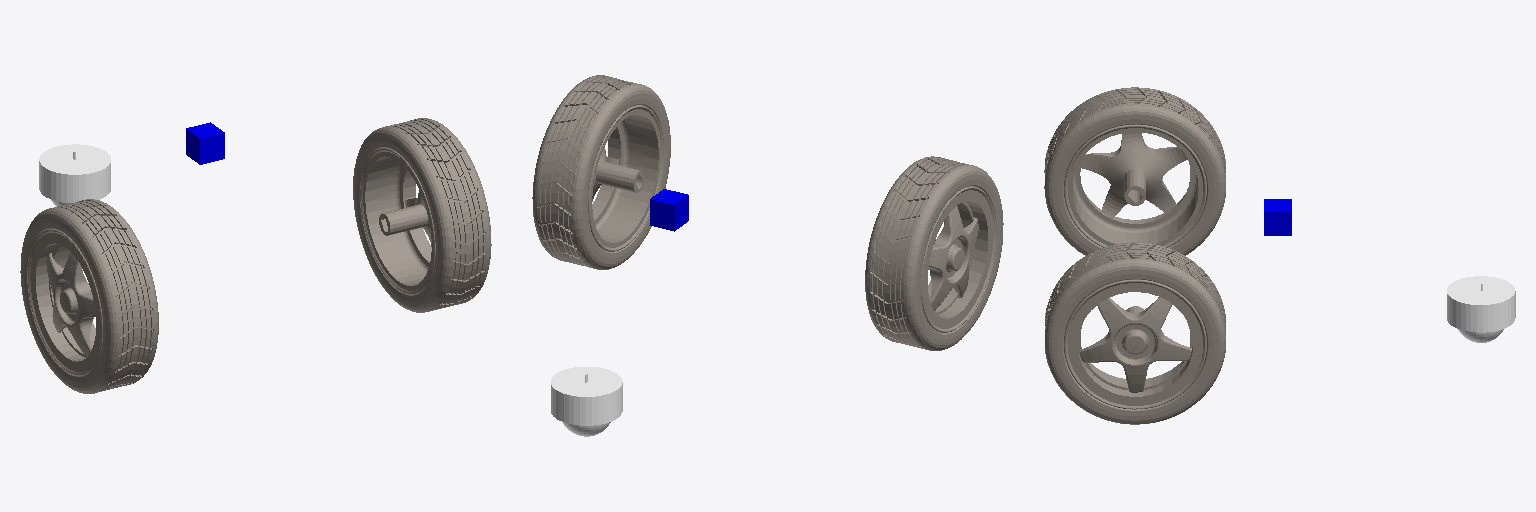
robot.urdf — robot:
<?xml version="1.0" encoding="utf-8"?>
<!-- This URDF was automatically created by SolidWorks to URDF Exporter -->
<robot name="robot">

  <!-- ==================== BASE LINK ==================== -->
  <link name="base">
    <inertial>
      <origin xyz="-0.00965481457320272 0.0111120747049655 0.005" rpy="0 0 0" />
      <mass value="0.197321172139232" />
      <inertia
        ixx="0.000254464488119407"
        ixy="5.7773136475039E-08"
        ixz="-2.4030438420844E-07"
        iyy="0.000348452218851022"
        iyz="-4.09032412681973E-05"
        izz="0.000146305796028143" />
    </inertial>
    <visual>
      <origin xyz="0 0 0" rpy="0 0 0" />
      <geometry>
        <mesh filename="package://robot/meshes/base.STL" />
      </geometry>
      <material name="">
        <color rgba="0.792156862745098 0.819607843137255 0.933333333333333 1" />
      </material>
    </visual>
    <collision>
      <origin xyz="0 0 0" rpy="0 0 0" />
      <geometry>
        <mesh filename="package://robot/meshes/base.STL" />
      </geometry>
    </collision>
  </link>

  <!-- ==================== LEFT WHEEL ==================== -->
  <link name="Left Wheel">
    <inertial>
      <origin xyz="0.015634 3.4368E-10 -7.9793E-11" rpy="0 0 0" />
      <mass value="0.30171" />
      <inertia
        ixx="0.00021617"
        ixy="-1.8513E-13"
        ixz="8.6051E-15"
        iyy="0.00011754"
        iyz="-8.418E-14"
        izz="0.00011754" />
    </inertial>
    <visual>
      <origin xyz="0 0 0" rpy="0 0 0" />
      <geometry>
        <mesh filename="package://robot/meshes/left_wheel.STL" />
      </geometry>
      <material name="">
        <color rgba="0.65098 0.61961 0.58824 1" />
      </material>
    </visual>
    <collision>
      <origin xyz="0 0 0" rpy="0 0 0" />
      <geometry>
        <mesh filename="package://robot/meshes/left_wheel.STL" />
      </geometry>
    </collision>
  </link>

  <joint name="left_wheel" type="continuous">
    <origin xyz="-0.061096 -0.051666 0.00018021" rpy="-2.2886 0 3.1416" />
    <parent link="base" />
    <child link="Left Wheel" />
    <axis xyz="1 0 0" />
  </joint>

  <!-- ==================== RIGHT WHEEL ==================== -->
  <link name="Right Wheel">
    <inertial>
      <origin xyz="0.015634 1.0186E-10 -2.1241E-11" rpy="0 0 0" />
      <mass value="0.30171" />
      <inertia
        ixx="0.00021617"
        ixy="6.8231E-14"
        ixz="-9.3068E-15"
        iyy="0.00011754"
        iyz="-3.8625E-13"
        izz="0.00011754" />
    </inertial>
    <visual>
      <origin xyz="0 0 0" rpy="0 0 0" />
      <geometry>
        <mesh filename="package://robot/meshes/right_wheel.STL" />
      </geometry>
      <material name="">
        <color rgba="0.65098 0.61961 0.58824 1" />
      </material>
    </visual>
    <collision>
      <origin xyz="0 0 0" rpy="0 0 0" />
      <geometry>
        <mesh filename="package://robot/meshes/right_wheel.STL" />
      </geometry>
    </collision>
  </link>

  <joint name="right_wheel" type="continuous">
    <origin xyz="0.041879 -0.051666 0.00018021" rpy="0.95996 0 0" />
    <parent link="base" />
    <child link="Right Wheel" />
    <axis xyz="-1 0 0" />
  </joint>

  <!-- ==================== FREE WHEEL ==================== -->
  <link name="Free Wheel">
    <inertial>
      <origin xyz="0 0 0" rpy="0 0 0" />
      <mass value="0.1" />
      <inertia
        ixx="0.0001"
        ixy="0"
        ixz="0"
        iyy="0.0001"
        iyz="0"
        izz="0.0001" />
    </inertial>
    <visual>
      <origin xyz="0 0 0" rpy="0 0 0" />
      <geometry>
        <mesh filename="package://robot/meshes/free_wheel.STL" />
      </geometry>
      <material name="">
        <color rgba="1 1 1 1" />
      </material>
    </visual>
    <collision>
      <origin xyz="0 0 0" rpy="0 0 0" />
      <geometry>
        <mesh filename="package://robot/meshes/free_wheel.STL" />
      </geometry>
    </collision>
  </link>

  <joint name="free_wheel" type="continuous">
    <origin xyz="-0.00945839046097954 0.0740844223621159 -0.0106197918296602" rpy="1.5707963267949 0 0" />
    <parent link="base" />
    <child link="Free Wheel" />
    <axis xyz="0 1 0" />
  </joint>

  <!-- ==================== IMU LINK ==================== -->
  <link name="imu_link">
    <inertial>
      <origin xyz="0 0 0" rpy="0 0 0" />
      <mass value="0.001" />
      <inertia ixx="0.0001" ixy="0" ixz="0" iyy="0.0001" iyz="0" izz="0.0001" />
    </inertial>
    <visual>
      <origin xyz="0 0 0" rpy="0 0 0" />
      <geometry>
        <box size="0.01 0.01 0.01" />
      </geometry>
      <material name="blue">
        <color rgba="0 0 1 1" />
      </material>
    </visual>
  </link>

  <joint name="imu_joint" type="fixed">
    <origin xyz="0 0 0.02" rpy="0 0 0" />
    <parent link="base" />
    <child link="imu_link" />
  </joint>

  <!-- ==================== GAZEBO FRICTION & CONTACT ==================== -->

  <gazebo reference="Left Wheel">
    <mu1>1.0</mu1>
    <mu2>1.0</mu2>
    <kp>1000000.0</kp>
    <kd>100.0</kd>
  </gazebo>

  <gazebo reference="Right Wheel">
    <mu1>1.0</mu1>
    <mu2>1.0</mu2>
    <kp>1000000.0</kp>
    <kd>100.0</kd>
  </gazebo>

  <gazebo reference="Free Wheel">
    <mu1>0.5</mu1>
    <mu2>0.5</mu2>
    <kp>1000000.0</kp>
    <kd>100.0</kd>
  </gazebo>

  <!-- ==================== GAZEBO PLUGINS ==================== -->

  <!-- IMU Sensor Plugin -->
  <gazebo reference="imu_link">
    <sensor name="imu_sensor" type="imu">
      <always_on>true</always_on>
      <update_rate>100</update_rate>
      <topic>/imu</topic>
      <gz_frame_id>imu_link</gz_frame_id>
      <imu>
        <angular_velocity>
          <x><noise type="gaussian"><mean>0</mean><stddev>0.009</stddev></noise></x>
          <y><noise type="gaussian"><mean>0</mean><stddev>0.009</stddev></noise></y>
          <z><noise type="gaussian"><mean>0</mean><stddev>0.009</stddev></noise></z>
        </angular_velocity>
        <linear_acceleration>
          <x><noise type="gaussian"><mean>0</mean><stddev>0.021</stddev></noise></x>
          <y><noise type="gaussian"><mean>0</mean><stddev>0.021</stddev></noise></y>
          <z><noise type="gaussian"><mean>0</mean><stddev>0.021</stddev></noise></z>
        </linear_acceleration>
      </imu>
    </sensor>
  </gazebo>

  <!-- Differential Drive Plugin -->
  <gazebo>
    <plugin filename="gz-sim-diff-drive-system"
            name="gz::sim::systems::DiffDrive">
      <left_joint>left_wheel</left_joint>
      <right_joint>right_wheel</right_joint>
      <wheel_separation>0.102975</wheel_separation>
      <wheel_radius>0.03</wheel_radius>
      <odom_publish_frequency>50</odom_publish_frequency>
      <topic>/cmd_vel</topic>
      <odom_topic>/odom</odom_topic>
      <tf_topic>/tf</tf_topic>
      <frame_id>odom</frame_id>
      <child_frame_id>base</child_frame_id>
      <publish_odom_tf>true</publish_odom_tf>
    </plugin>
  </gazebo>

  <!-- Joint State Publisher Plugin -->
  <gazebo>
    <plugin filename="gz-sim-joint-state-publisher-system"
            name="gz::sim::systems::JointStatePublisher">
      <topic>/joint_states</topic>
    </plugin>
  </gazebo>

</robot>

--- Render facts (derived) ---
3 views of the same robot in one strip: view 1: azimuth 30°, elevation 25°; view 2: azimuth 150°, elevation 25°; view 3: azimuth 270°, elevation 25° (orthographic).
Model robot with 5 links and 4 joints (3 continuous, 1 fixed), rooted at base, posed all joints at 0.
Visible links, largest first — view 1: Left Wheel, Right Wheel, Free Wheel, imu_link; view 2: Left Wheel, Right Wheel, Free Wheel, imu_link; view 3: Right Wheel, Left Wheel, Free Wheel, imu_link.
Link boxes in pixels (box(x1,y1,x2,y2)): Left Wheel: box(20, 199, 158, 393); Right Wheel: box(353, 118, 491, 312); Free Wheel: box(39, 144, 110, 206); imu_link: box(186, 122, 224, 164); Left Wheel: box(865, 156, 1003, 350); Right Wheel: box(532, 75, 670, 269); Free Wheel: box(551, 367, 622, 436); imu_link: box(650, 189, 688, 231); Right Wheel: box(1045, 242, 1225, 424); Left Wheel: box(1044, 87, 1225, 255); Free Wheel: box(1447, 276, 1515, 342); imu_link: box(1264, 199, 1291, 235).
Bounding box of the posed robot: 0.153 × 0.1709 × 0.0668 m (x, y, z).
3 mesh visuals loaded from 4 distinct referenced files (3 binary STL); not drawn: 1 (file found but could not be loaded).
